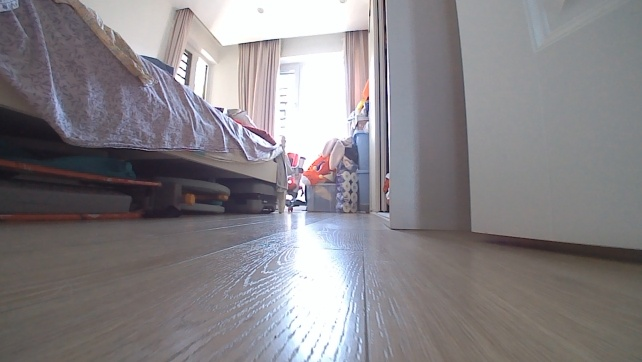bed1: (0, 0, 293, 217)
